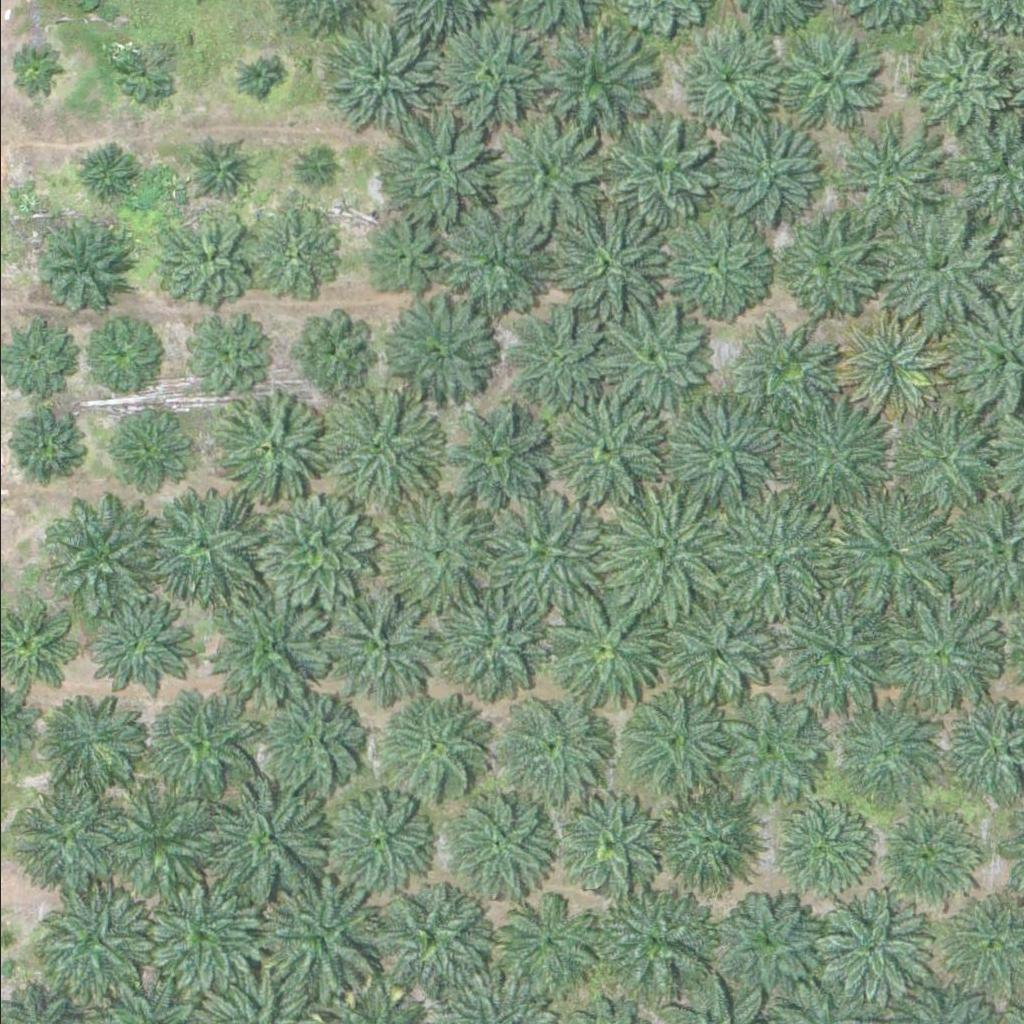Kelapa_Sawit: (356, 876, 482, 1001), (529, 22, 655, 147), (824, 489, 950, 614), (705, 495, 831, 620), (603, 489, 728, 614), (433, 17, 547, 130), (884, 592, 998, 705), (2, 783, 115, 896), (105, 785, 218, 898), (217, 789, 330, 902), (496, 688, 609, 801), (151, 687, 264, 800), (546, 597, 659, 710), (441, 587, 554, 700), (323, 584, 436, 697), (49, 497, 162, 610), (217, 387, 330, 500), (377, 290, 490, 403), (549, 208, 662, 321), (448, 194, 561, 307), (325, 15, 438, 128), (815, 889, 928, 1002), (619, 683, 732, 796), (660, 597, 773, 710), (779, 599, 892, 712), (830, 308, 943, 421), (597, 305, 710, 418), (877, 210, 990, 323), (772, 206, 885, 319), (387, 108, 501, 220), (604, 878, 718, 990), (653, 783, 767, 895), (717, 689, 831, 801), (264, 883, 377, 995), (149, 882, 262, 994), (34, 885, 147, 997), (333, 790, 446, 902), (446, 786, 559, 898), (219, 593, 332, 705), (73, 589, 186, 701), (492, 496, 605, 608), (383, 494, 496, 606), (264, 492, 377, 604), (149, 488, 262, 600), (327, 390, 440, 502), (490, 119, 603, 231), (886, 405, 999, 517), (777, 395, 890, 507), (666, 395, 779, 507), (554, 394, 667, 506), (832, 118, 945, 230), (600, 114, 713, 226), (389, 701, 490, 801), (265, 692, 366, 792), (43, 693, 144, 793), (442, 404, 543, 504), (30, 213, 131, 313), (902, 34, 1003, 134), (664, 216, 765, 316), (719, 123, 820, 223), (770, 31, 871, 131), (501, 892, 601, 992), (560, 795, 660, 895), (720, 897, 820, 997), (876, 802, 976, 902), (769, 798, 869, 898), (837, 703, 937, 803), (678, 32, 778, 132), (252, 208, 340, 296), (158, 216, 246, 304), (739, 326, 828, 413), (105, 402, 193, 489), (508, 313, 596, 400), (294, 316, 370, 391), (1, 410, 77, 485), (179, 318, 255, 393), (361, 214, 437, 289), (87, 318, 150, 381), (69, 142, 132, 205), (114, 37, 177, 100), (4, 43, 55, 93), (197, 145, 247, 195), (298, 153, 336, 191), (236, 58, 274, 95)
